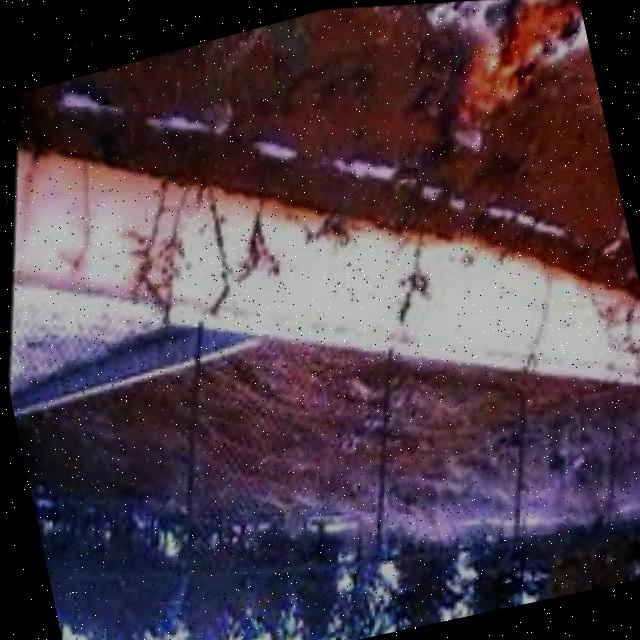fire: (406, 0, 611, 186)
